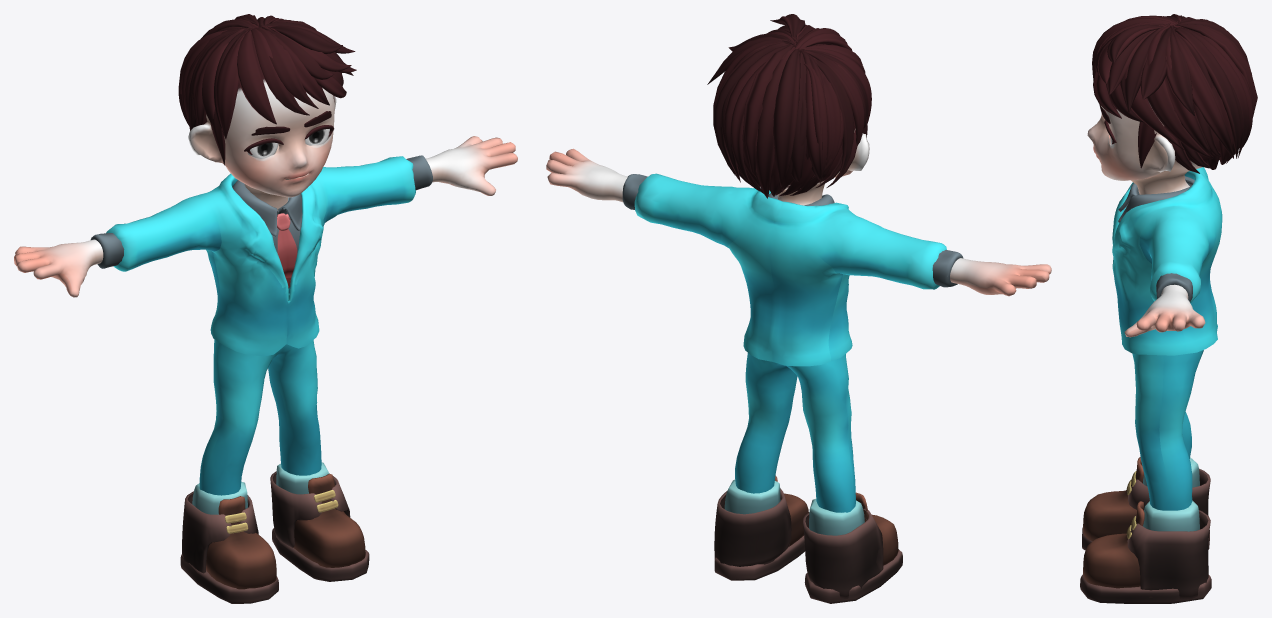
The model's file is prof_manager_M1_LOW.fbx.
3 views of the same model, side by side, from view 1: azimuth 30°, elevation 25°; view 2: azimuth 150°, elevation 25°; view 3: azimuth 270°, elevation 25° (orthographic).
Parts seen in each view (by area): view 1: manager2_low; view 2: manager2_low; view 3: manager2_low.
Boxes of the visible parts, x1=… form: manager2_low: x1=14, y1=14, x2=517, y2=603; manager2_low: x1=546, y1=14, x2=1051, y2=603; manager2_low: x1=1080, y1=14, x2=1257, y2=603.
Bounding box in the file's own units: 231 × 241 × 70.48.
